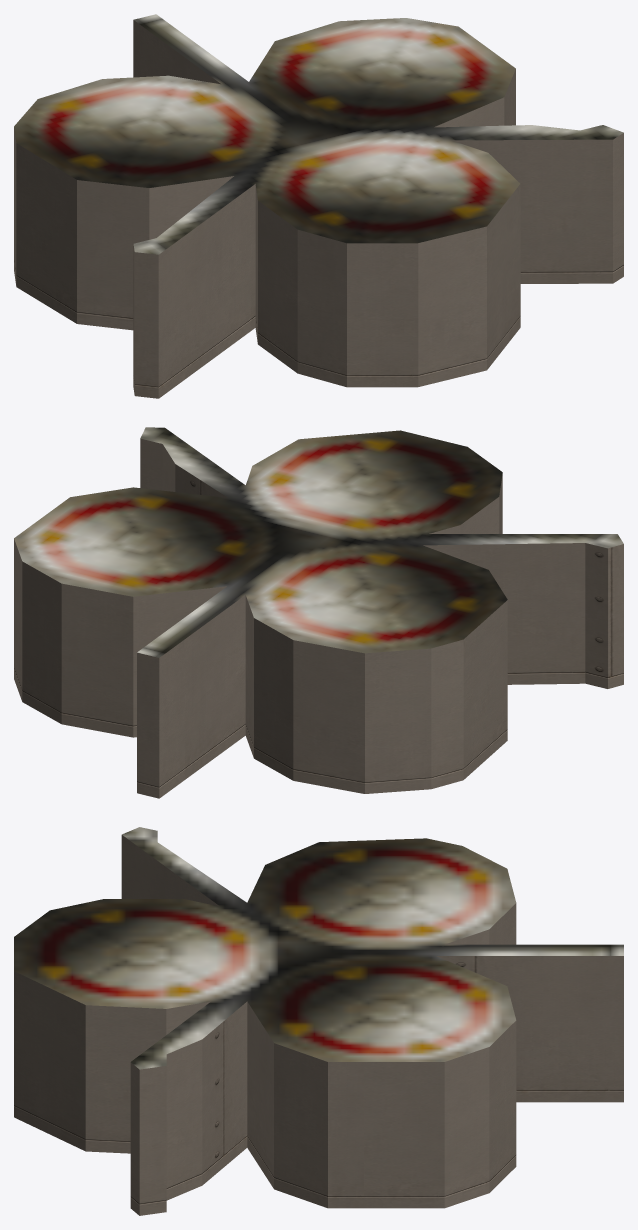
The model's file is fuel_tank_light_21.glb.
3 renders of one model, top to bottom at view 1: azimuth 30°, elevation 25°; view 2: azimuth 150°, elevation 25°; view 3: azimuth 270°, elevation 25°, orthographic. The views are drawn at different scales.
Parts seen in each view (by area): view 1: buildings/saxarba/fuel_tanks/fuel_tank_light_21; view 2: buildings/saxarba/fuel_tanks/fuel_tank_light_21; view 3: buildings/saxarba/fuel_tanks/fuel_tank_light_21.
Part boxes in pixels (<box>): buildings/saxarba/fuel_tanks/fuel_tank_light_21: <box>14,14,623,398</box>; buildings/saxarba/fuel_tanks/fuel_tank_light_21: <box>14,427,623,798</box>; buildings/saxarba/fuel_tanks/fuel_tank_light_21: <box>14,827,623,1215</box>.
Bounding box in the file's own units: 64 × 18 × 68.
